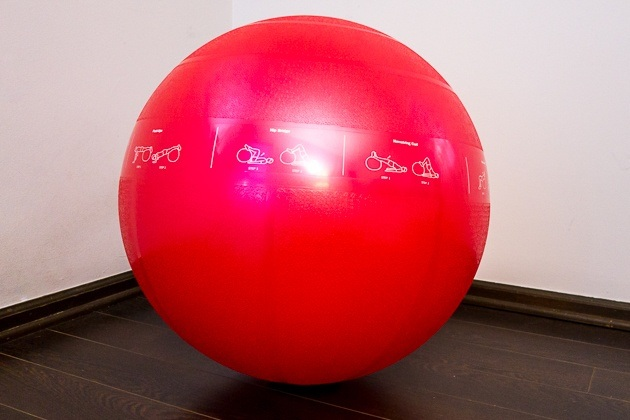red ball: (115, 14, 495, 389)
